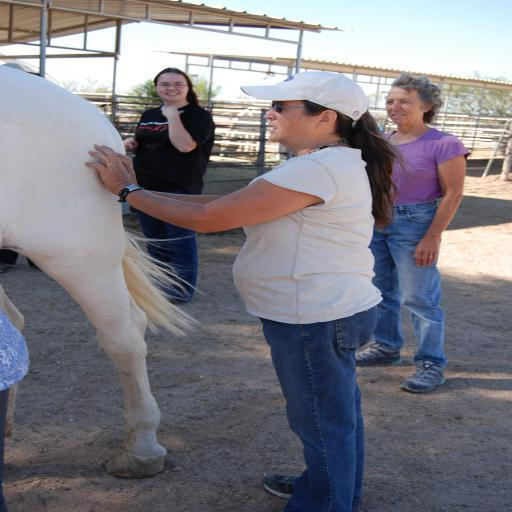horse: (0, 62, 201, 480)
